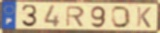3: (20, 4, 38, 28)
4: (42, 4, 62, 29)
9: (89, 5, 107, 29)
K: (135, 6, 153, 29)
O: (110, 5, 132, 29)
R: (65, 5, 86, 28)
